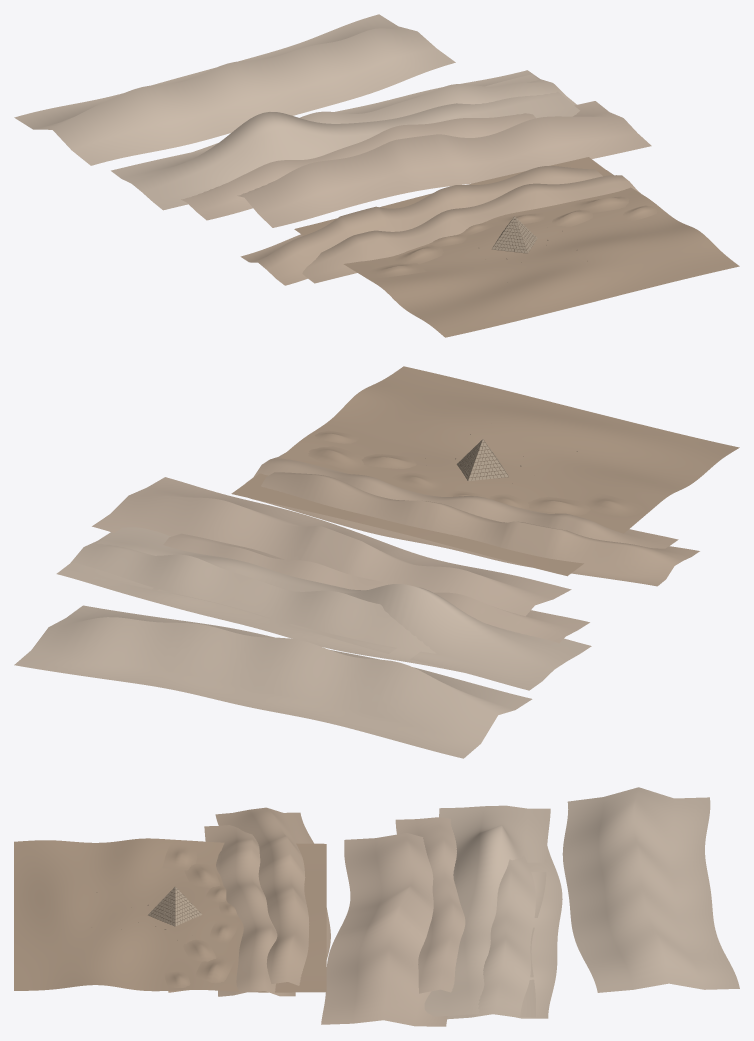
File: desert-reference-v1.glb
3 renders of one model, top to bottom at view 1: azimuth 30°, elevation 25°; view 2: azimuth 150°, elevation 25°; view 3: azimuth 270°, elevation 25°, orthographic. The views are drawn at different scales.
Visible parts, largest first — view 1: WEBREF_Terrain, WEBREF_BackRidge_F, WEBREF_HorizonRidge, WEBREF_BackRidge_E_BIG, WEBREF_MidRidge_B, WEBREF_MidRidge_A, WEBREF_BackRidge_C, WEBREF_BackRidge_D, WEBREF_TransitionDunes, WEBREF_PyramidStonePanels; view 2: WEBREF_Terrain, WEBREF_BackRidge_F, WEBREF_HorizonRidge, WEBREF_BackRidge_D, WEBREF_BackRidge_E_BIG, WEBREF_MidRidge_B, WEBREF_BackRidge_C, WEBREF_MidRidge_A, WEBREF_TransitionDunes, WEBREF_PyramidStonePanels; view 3: WEBREF_Terrain, WEBREF_BackRidge_F, WEBREF_HorizonRidge, WEBREF_BackRidge_E_BIG, WEBREF_BackRidge_D, WEBREF_MidRidge_B, WEBREF_MidRidge_A, WEBREF_BackRidge_C, WEBREF_TransitionDunes, WEBREF_PyramidStonePanels, WEBREF_PyramidBacking.
Boxes of the visible parts, box(x1,y1,x2,y2) form: WEBREF_Terrain: box(294, 157, 739, 337); WEBREF_BackRidge_F: box(14, 14, 455, 165); WEBREF_HorizonRidge: box(237, 101, 651, 227); WEBREF_BackRidge_E_BIG: box(111, 74, 579, 210); WEBREF_MidRidge_B: box(240, 166, 602, 285); WEBREF_MidRidge_A: box(302, 170, 640, 283); WEBREF_BackRidge_C: box(181, 113, 535, 220); WEBREF_BackRidge_D: box(193, 70, 576, 151); WEBREF_TransitionDunes: box(369, 196, 657, 277); WEBREF_PyramidStonePanels: box(492, 216, 537, 253); WEBREF_Terrain: box(231, 366, 739, 576); WEBREF_BackRidge_F: box(14, 605, 532, 758); WEBREF_HorizonRidge: box(92, 477, 571, 616); WEBREF_BackRidge_D: box(56, 532, 461, 672); WEBREF_BackRidge_E_BIG: box(65, 527, 591, 690); WEBREF_MidRidge_B: box(249, 472, 699, 586); WEBREF_BackRidge_C: box(163, 533, 589, 642); WEBREF_MidRidge_A: box(245, 452, 678, 548); WEBREF_TransitionDunes: box(308, 430, 645, 516); WEBREF_PyramidStonePanels: box(456, 439, 508, 481); WEBREF_Terrain: box(14, 838, 326, 992); WEBREF_BackRidge_F: box(562, 787, 739, 992); WEBREF_HorizonRidge: box(321, 833, 447, 1026); WEBREF_BackRidge_E_BIG: box(424, 805, 550, 1017); WEBREF_BackRidge_D: box(447, 846, 562, 1019); WEBREF_MidRidge_B: box(215, 807, 330, 985); WEBREF_MidRidge_A: box(204, 825, 295, 996); WEBREF_BackRidge_C: box(395, 817, 465, 993); WEBREF_TransitionDunes: box(162, 842, 239, 992); WEBREF_PyramidStonePanels: box(148, 887, 202, 926); WEBREF_PyramidBacking: box(150, 887, 199, 926).
Size of the model in its own units: 222 by 20.68 by 297.
